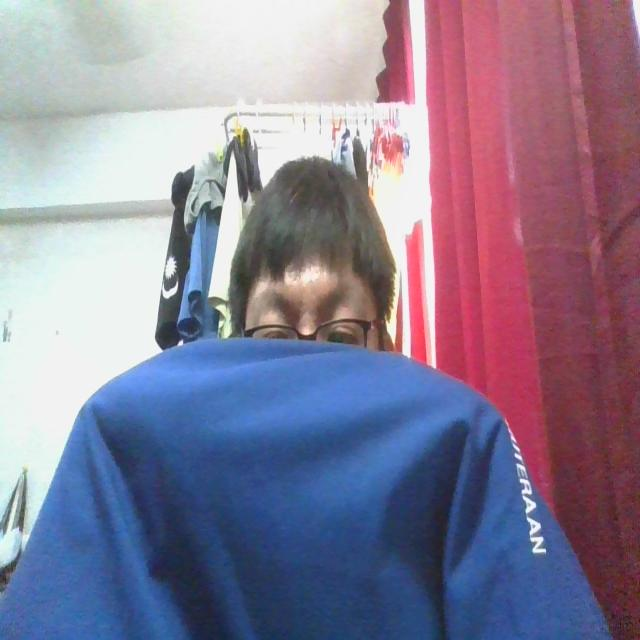person_without_labcoat: (0, 157, 612, 639)
